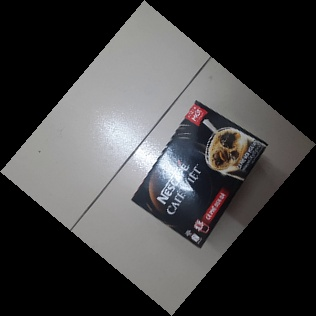CF Viet: (131, 99, 268, 250)
